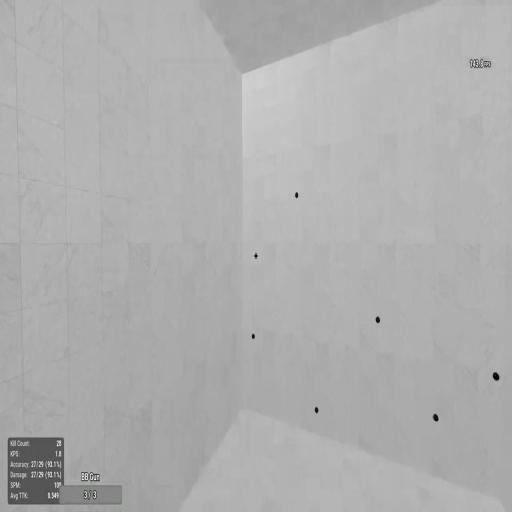Crosshair: (253, 252, 259, 260)
Target: (432, 412, 440, 423), (492, 371, 500, 382), (375, 316, 381, 324), (294, 191, 299, 198), (251, 333, 255, 340), (314, 407, 318, 413)
